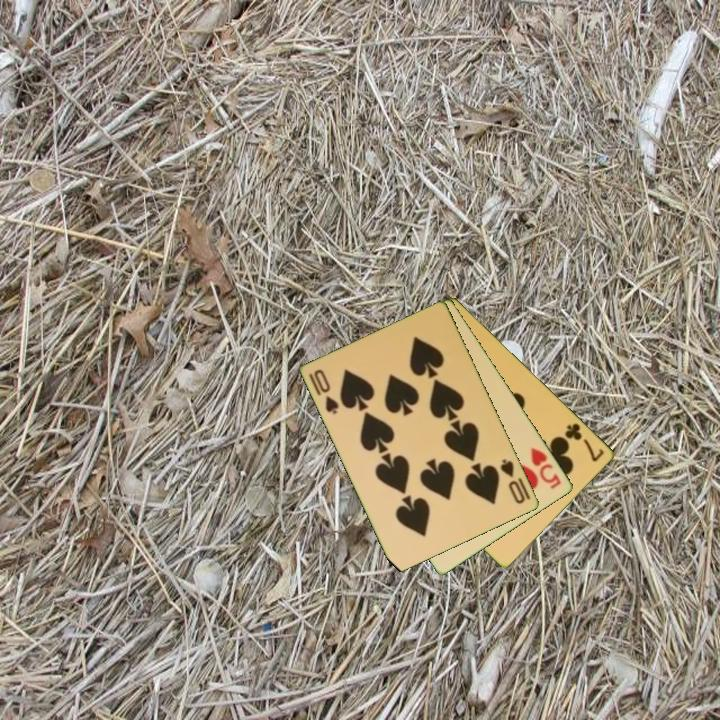10s: (306, 366, 342, 418), (497, 456, 528, 507)
5h: (527, 444, 564, 492)
7c: (562, 420, 607, 465)
